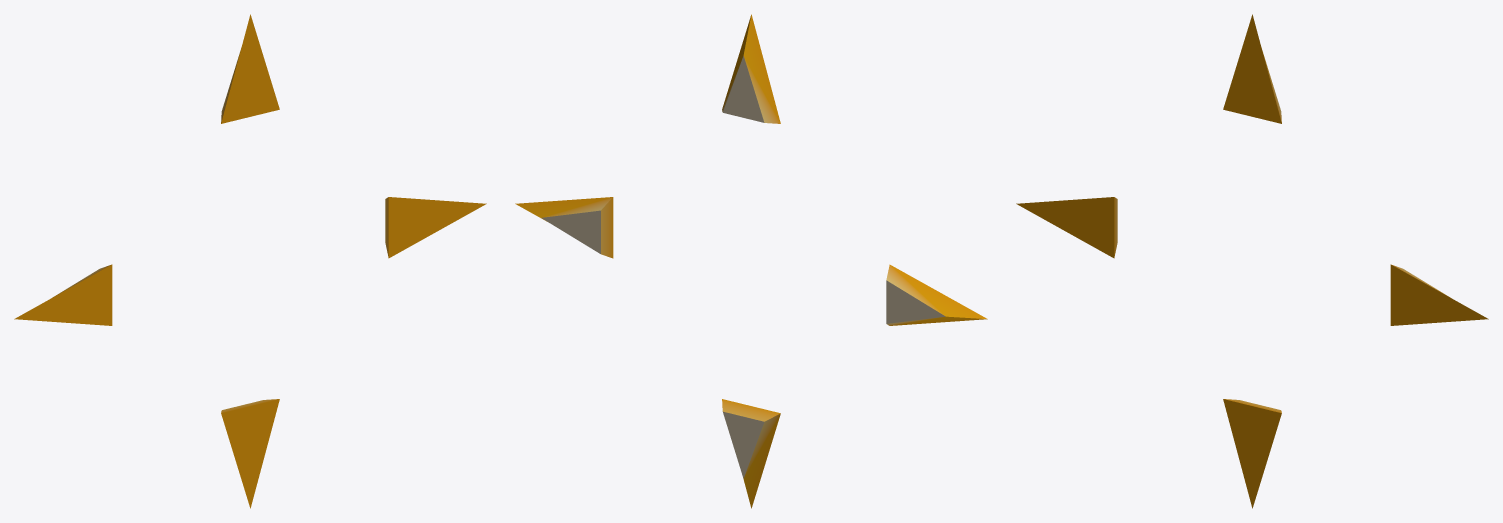
File: fx_friendlyselected.fbx
The picture shows the model from 3 angles, left to right: view 1: azimuth 30°, elevation 25°; view 2: azimuth 150°, elevation 25°; view 3: azimuth 330°, elevation 25°; orthographic projection.
Visible parts, largest first — view 1: fx_friendlyselected; view 2: fx_friendlyselected; view 3: fx_friendlyselected.
Part boxes in pixels (left/top/right/bottom): fx_friendlyselected: left=14, top=14, right=486, bottom=508; fx_friendlyselected: left=515, top=14, right=987, bottom=508; fx_friendlyselected: left=1016, top=14, right=1488, bottom=508.
Size of the model in its own units: 9.14 by 9.14 by 0.2648.
